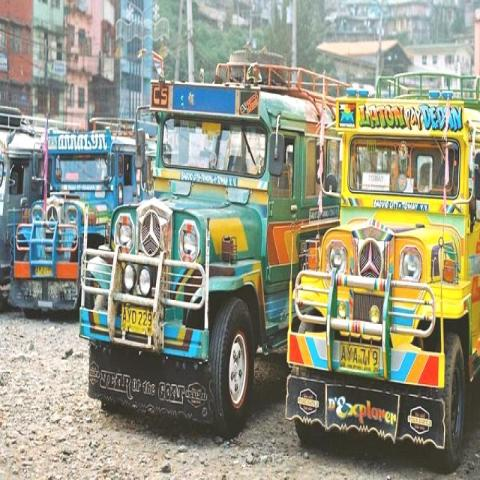jeepney: (74, 52, 337, 451), (284, 65, 480, 480), (8, 82, 148, 321)
